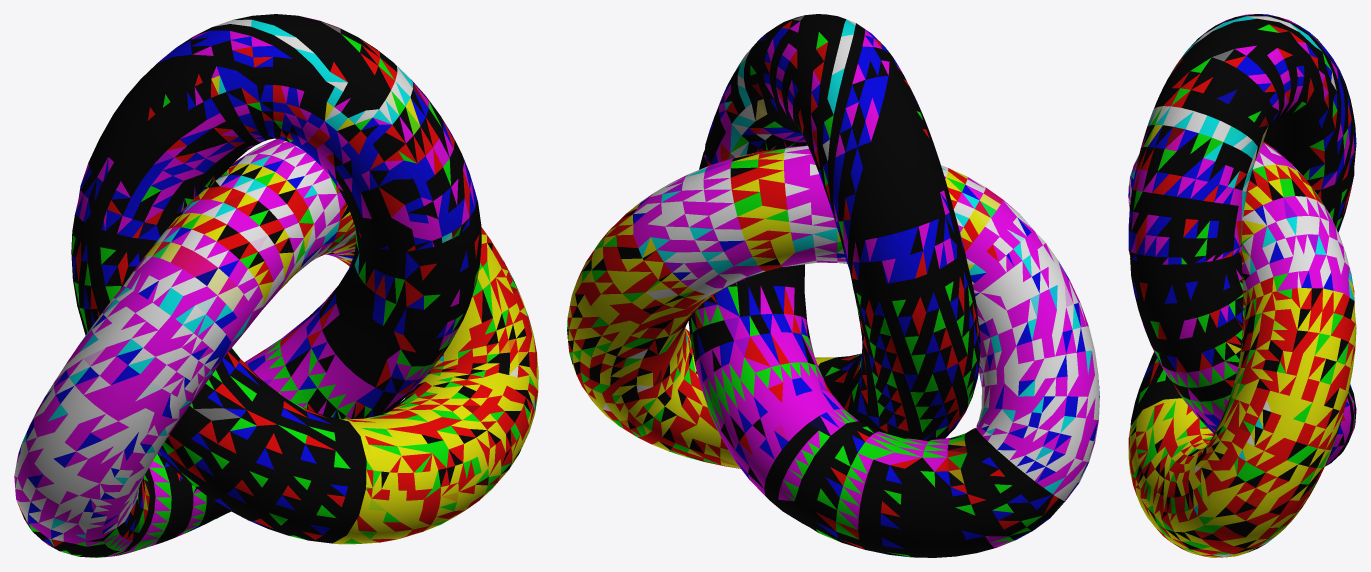
The picture shows the model from 3 angles, left to right: view 1: azimuth 30°, elevation 25°; view 2: azimuth 150°, elevation 25°; view 3: azimuth 270°, elevation 25°; orthographic projection. The views are drawn at different scales.
Parts seen in each view (by area): view 1: currentmodel.wrl.cleaner.materialmerger.gles; view 2: currentmodel.wrl.cleaner.materialmerger.gles; view 3: currentmodel.wrl.cleaner.materialmerger.gles.
Boxes of the visible parts, x1,y1,x2,y2 form: currentmodel.wrl.cleaner.materialmerger.gles: (14, 14, 538, 557); currentmodel.wrl.cleaner.materialmerger.gles: (567, 14, 1099, 557); currentmodel.wrl.cleaner.materialmerger.gles: (1128, 14, 1356, 557).
Size of the model in its own units: 192 by 181 by 80.21.
